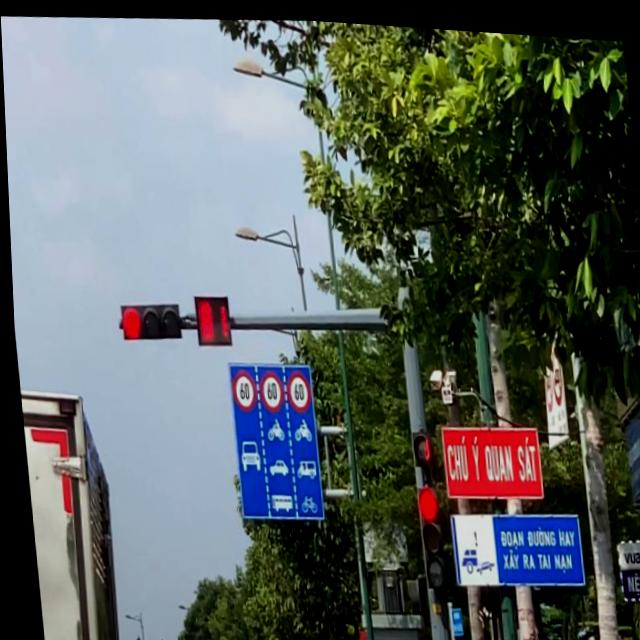Toc do toi da cho phep: (281, 364, 310, 412), (254, 365, 283, 412), (225, 366, 255, 410)
